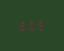nine: (37, 19, 45, 30)
six: (18, 20, 26, 31)
zero: (28, 20, 36, 30)
